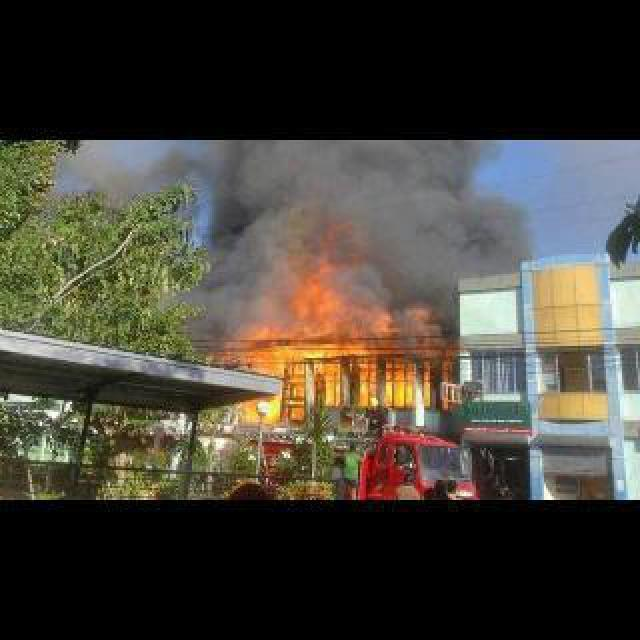Fire: (220, 286, 446, 422)
Smoke: (198, 140, 542, 274), (172, 138, 302, 328)
